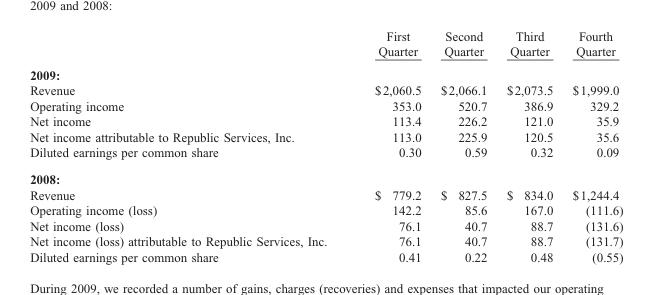table: (29, 28, 622, 263)
table column: (29, 28, 350, 263), (350, 28, 430, 263), (430, 28, 496, 263), (496, 28, 562, 263), (562, 28, 622, 263)
table column header: (29, 28, 622, 62)
table projected row header: (29, 165, 622, 186), (29, 62, 622, 82)
table row: (29, 28, 622, 62), (29, 144, 622, 165), (29, 165, 622, 186), (29, 62, 622, 82), (29, 97, 622, 113), (29, 128, 622, 144), (29, 186, 622, 202), (29, 217, 622, 233), (29, 82, 622, 97), (29, 113, 622, 128), (29, 202, 622, 217), (29, 233, 622, 248), (29, 248, 622, 263)
